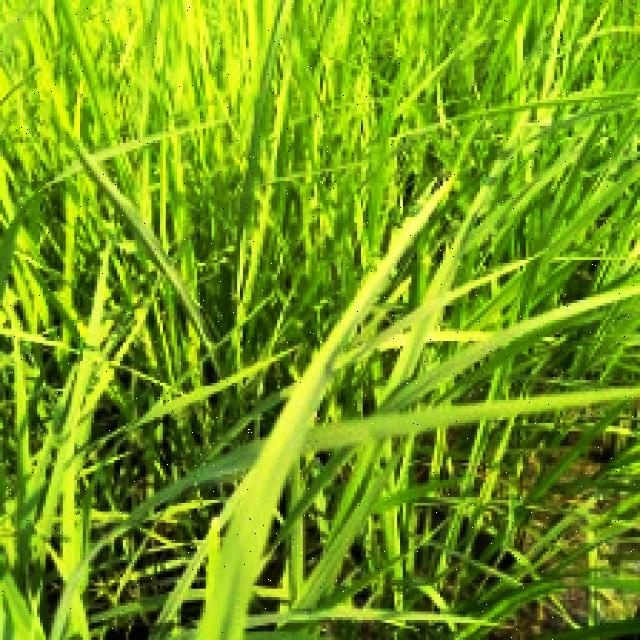health: (196, 174, 510, 637)
